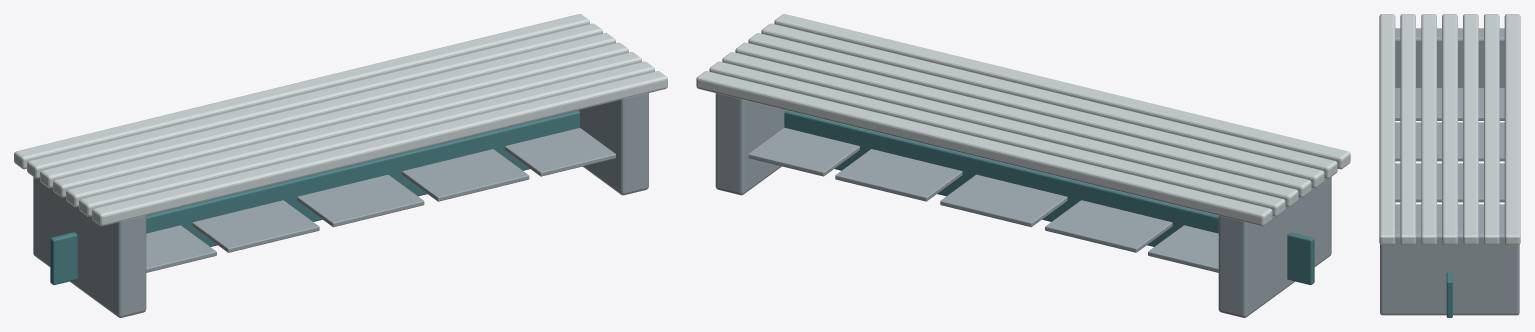
The model's file is RD_DeconChangeBench.fbx.
The picture shows the model from 3 angles, left to right: view 1: azimuth 30°, elevation 25°; view 2: azimuth 150°, elevation 25°; view 3: azimuth 270°, elevation 25°; orthographic projection. The views are drawn at different scales.
Parts seen in each view (by area): view 1: RD_DeconChangeBench; view 2: RD_DeconChangeBench; view 3: RD_DeconChangeBench.
Boxes of the visible parts, box(x1,y1,x2,y2) form: RD_DeconChangeBench: box(14, 14, 667, 317); RD_DeconChangeBench: box(696, 14, 1350, 317); RD_DeconChangeBench: box(1379, 14, 1520, 317).
Size of the model in its own units: 265 by 47.75 by 69.6.
